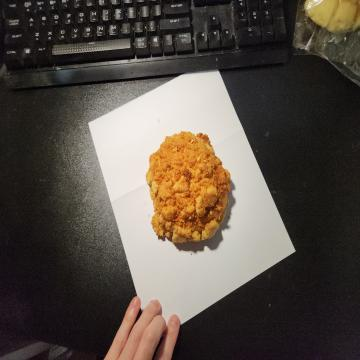soboru_bread: (146, 128, 231, 250)
